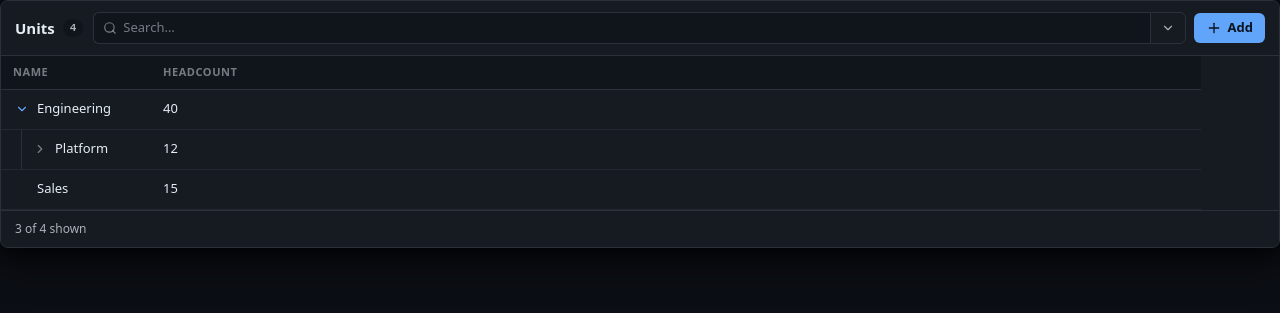
Test: EditingRow in a tree › draws a draft with the indent of a root and no chevron
Expected: the text "Engineering" is shown, [37,99,111,119]
Step 1. Click the button "Add" → (1229, 28), box [1194,13,1265,43]
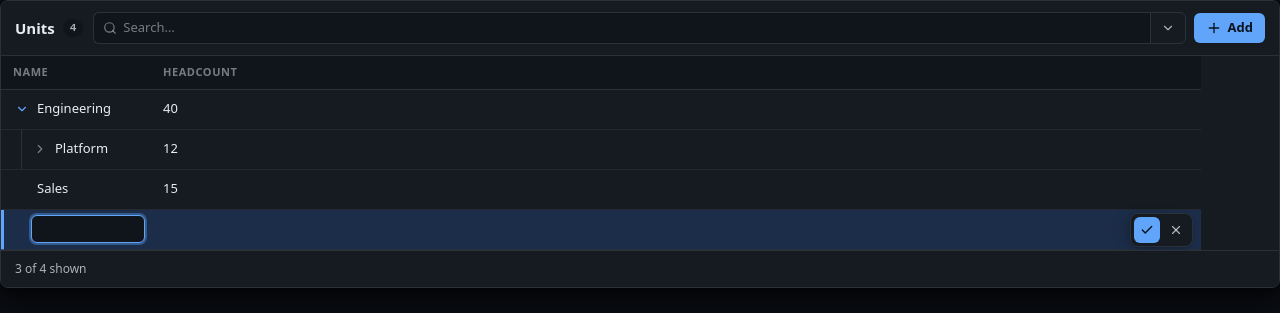
Now the 5th row is shown, box [1,210,1201,250]
Now the field named "Name" is empty, box [31,215,145,243]
